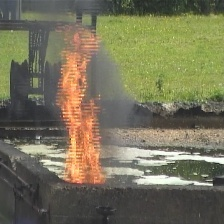fire: (54, 41, 113, 188)
